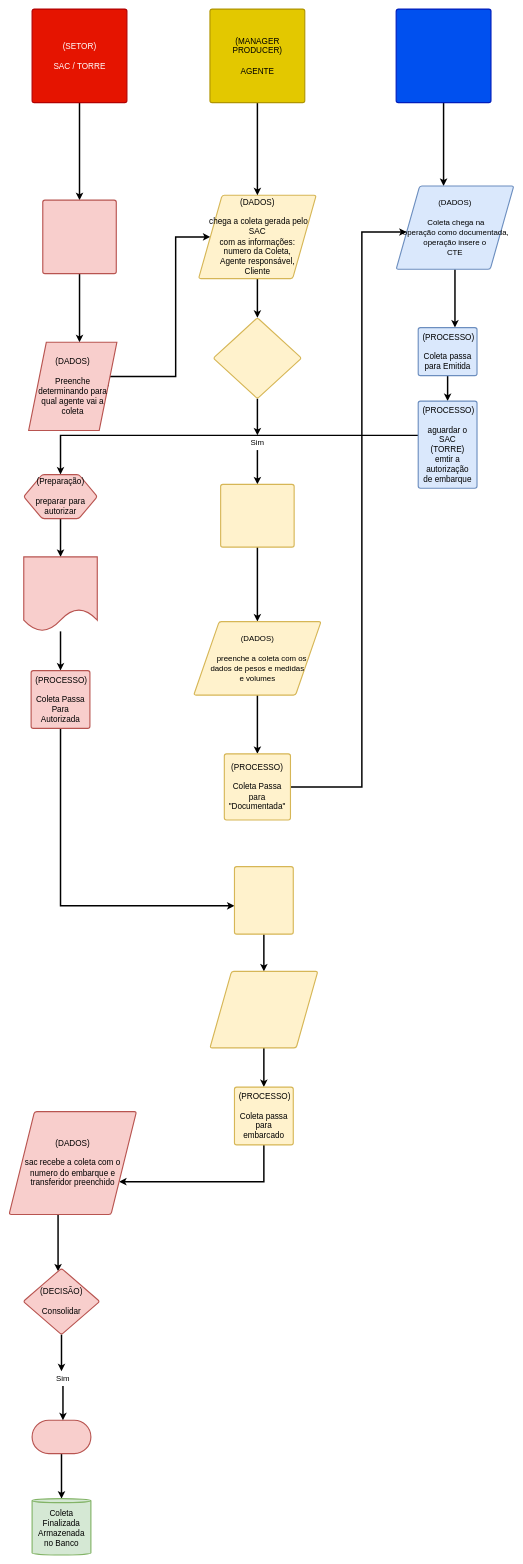
Image size: 523x1564. Some labels were removed from this diagram. Here are the shapes that lost their labels. From the top down, the centre of each, then its label:
At point 443,55: "(SETOR) OPERAÇÃO".
At point 79,236: "(PROCESSO) Gera uma nova Coleta".
At point 257,358: "(Decisão) Aceitar".
At point 257,515: "(PROCESSO) Coleta passa para Aceita".
At point 60,594: "(DOCUMENTO) insere o documento que autoriza o embarque".
At point 264,900: "(PROCESSO) (preenche a Coleta com o numero do embarque)".
At point 263,1009: "Preenche numero de embarque e compania area(Transferidor)".
At point 61,1436: "Coleta passa para Finalizada".
